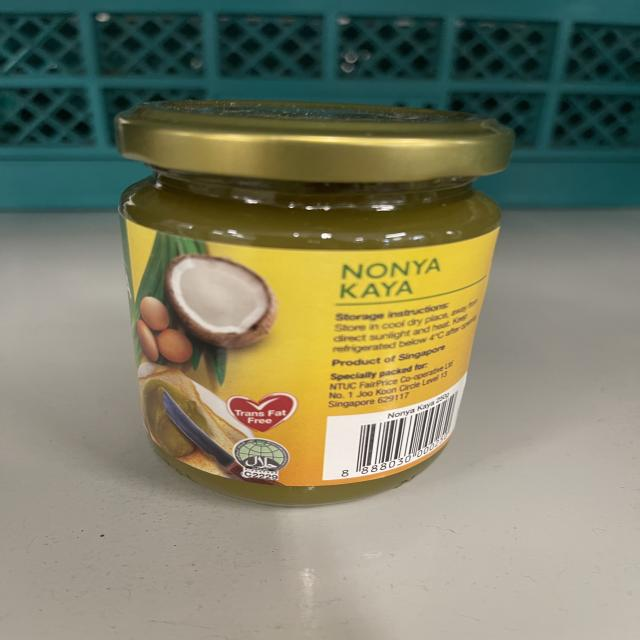object_name: (123, 104, 474, 508)
